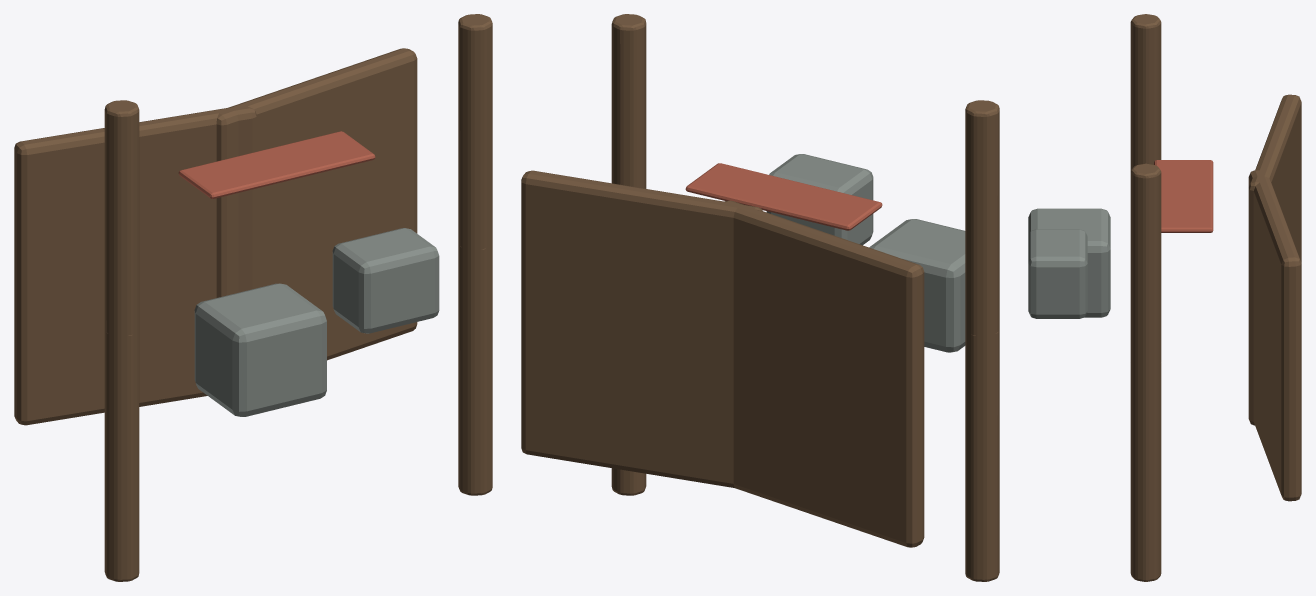
The model's file is rough_supply_shelter.glb.
3 renders of one model, left to right at view 1: azimuth 30°, elevation 25°; view 2: azimuth 150°, elevation 25°; view 3: azimuth 270°, elevation 25°, orthographic. The views are drawn at different scales.
Visible parts, largest first — view 1: ShelterRoofLeft, ShelterRoofRight, ShelterCrateA, ShelterCrateB, ShelterPost00, ShelterPost02, ShelterPost01, ShelterPost03, ShelterCloth; view 2: ShelterRoofRight, ShelterRoofLeft, ShelterPost00, ShelterPost02, ShelterCrateA, ShelterCloth, ShelterPost03, ShelterCrateB, ShelterPost01; view 3: ShelterRoofRight, ShelterPost01, ShelterPost03, ShelterRoofLeft, ShelterCrateB, ShelterPost02, ShelterCloth, ShelterCrateA.
Boxes of the visible parts, x1=… form: ShelterRoofLeft: x1=14, y1=105, x2=256, y2=425; ShelterRoofRight: x1=216, y1=48, x2=417, y2=360; ShelterCrateA: x1=194, y1=283, x2=326, y2=416; ShelterCrateB: x1=332, y1=228, x2=439, y2=333; ShelterPost00: x1=104, y1=329, x2=139, y2=581; ShelterPost02: x1=104, y1=100, x2=139, y2=360; ShelterPost01: x1=458, y1=244, x2=492, y2=495; ShelterPost03: x1=458, y1=14, x2=492, y2=271; ShelterCloth: x1=178, y1=131, x2=375, y2=198; ShelterRoofRight: x1=521, y1=170, x2=762, y2=487; ShelterRoofLeft: x1=724, y1=200, x2=924, y2=547; ShelterPost00: x1=965, y1=330, x2=999, y2=581; ShelterPost02: x1=965, y1=100, x2=999, y2=360; ShelterCrateA: x1=869, y1=219, x2=965, y2=352; ShelterCloth: x1=685, y1=163, x2=882, y2=230; ShelterPost03: x1=611, y1=14, x2=646, y2=188; ShelterCrateB: x1=766, y1=154, x2=873, y2=245; ShelterPost01: x1=611, y1=468, x2=646, y2=495; ShelterRoofRight: x1=1248, y1=170, x2=1301, y2=501; ShelterPost01: x1=1130, y1=362, x2=1161, y2=581; ShelterPost03: x1=1130, y1=163, x2=1161, y2=389; ShelterRoofLeft: x1=1248, y1=94, x2=1301, y2=425; ShelterCrateB: x1=1028, y1=229, x2=1087, y2=318; ShelterPost02: x1=1130, y1=14, x2=1161, y2=170; ShelterCloth: x1=1154, y1=160, x2=1213, y2=232; ShelterCrateA: x1=1028, y1=208, x2=1110, y2=317.
Bounding box in the file's own units: 3.5 × 3.94 × 2.39.
